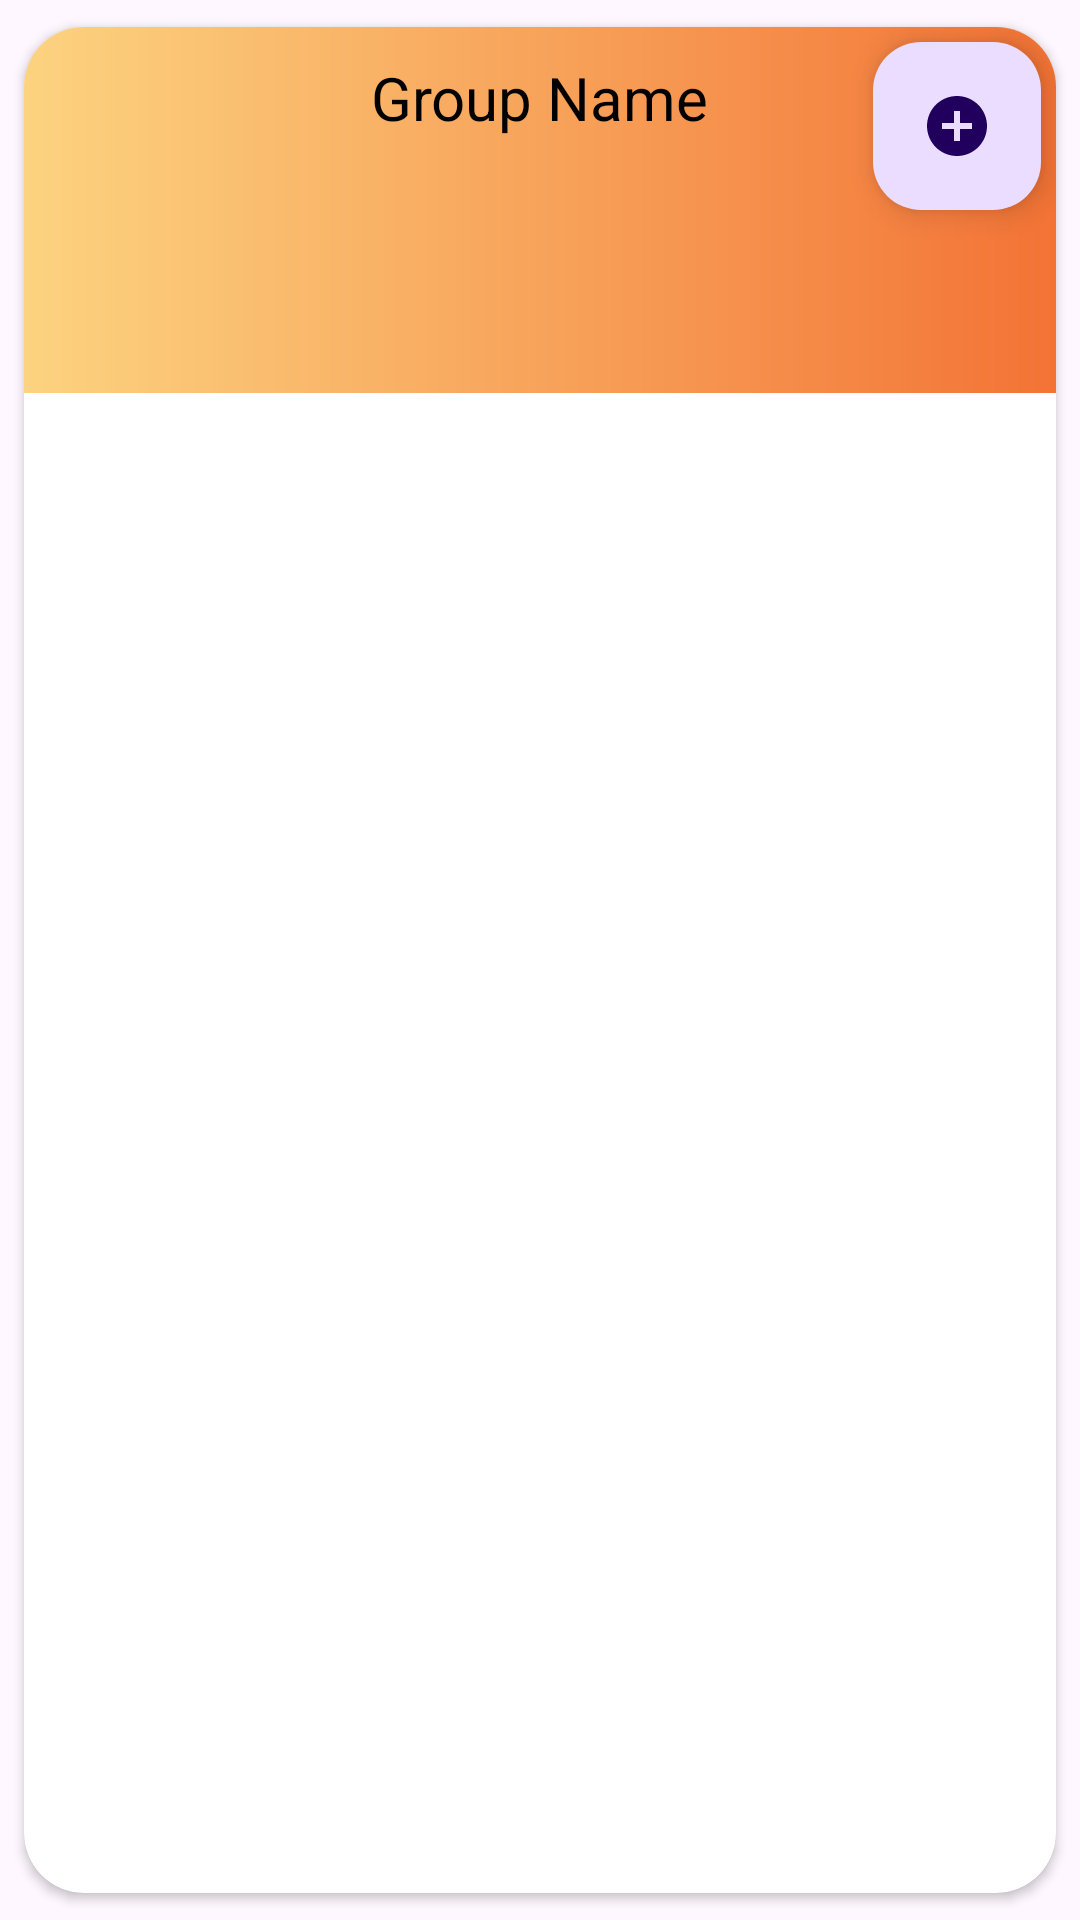

Screen size 1080*1920. Icon name, then its box in pixels as (x1, y1, x2, y2):
add: (873, 42, 1041, 210)
